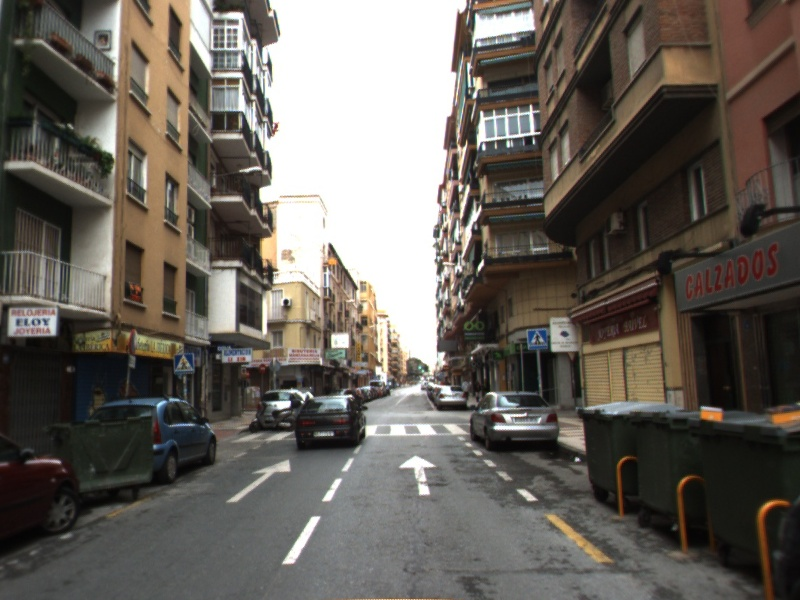STRAIGHT: (224, 457, 293, 504), (396, 453, 439, 497)
